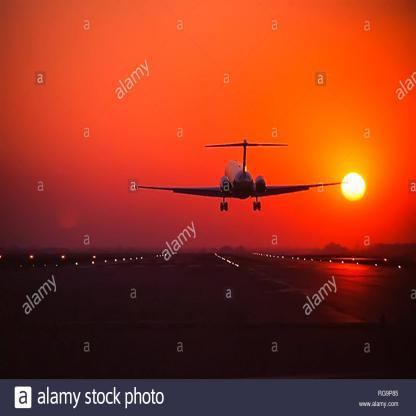CIV_Plane: (128, 134, 350, 216)
